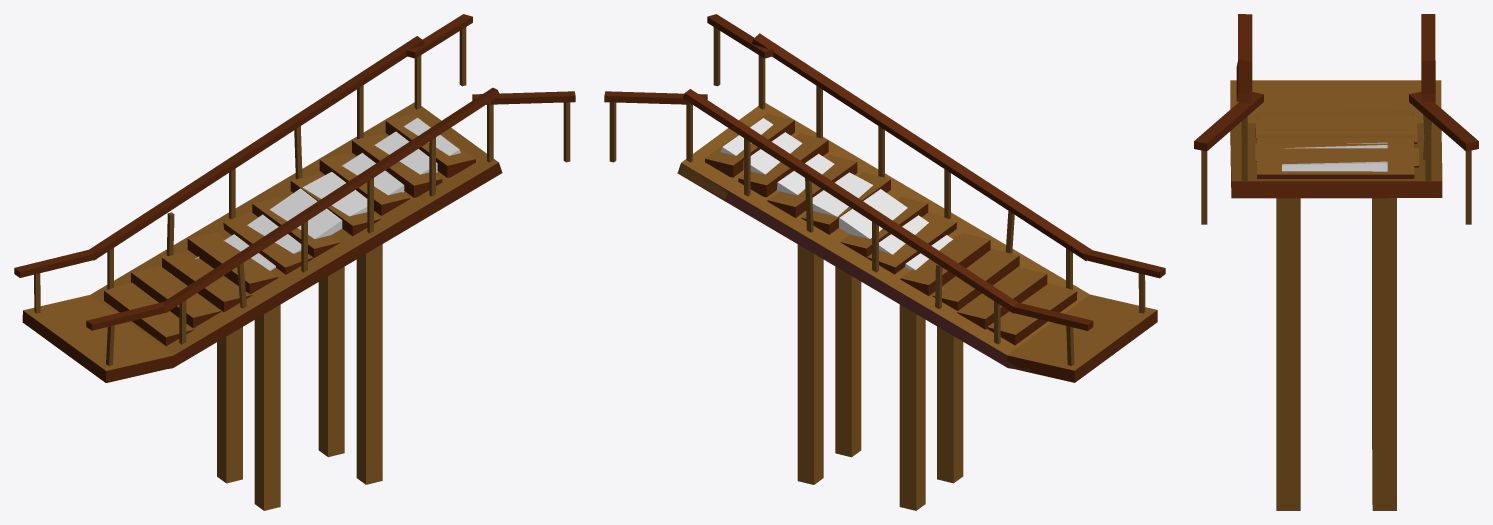
The model's file is StairsDown.fbx.
The picture shows the model from 3 angles, left to right: view 1: azimuth 30°, elevation 25°; view 2: azimuth 150°, elevation 25°; view 3: azimuth 270°, elevation 25°; orthographic projection. The views are drawn at different scales.
Visible parts, largest first — view 1: Cube.008, Cube.016, Cube.023, Cube, Cube.013, Cube.018, Cube.011, Cube.007, Cube.012, Cube.009, Cube.010, Cube.006 (+6 smaller); view 2: Cube.008, Cube.016, Cube.023, Cube, Cube.013, Cube.018, Cube.011, Cube.007, Cube.009, Cube.012, Cube.010, Cube.006 (+6 smaller); view 3: Cube.023, Cube.008, Cube.013, Cube.016, Cube.015, Cube.007, Cube.018, Cube.004, Cube.028, Cube.011, Cube.010, Cube.005 (+9 smaller).
Boxes of the visible parts, x1,y1,x2,y2 form: Cube.008: [90, 102, 502, 368]; Cube.016: [14, 36, 500, 330]; Cube.023: [318, 244, 382, 484]; Cube: [217, 304, 280, 510]; Cube.013: [22, 295, 173, 382]; Cube.018: [171, 117, 460, 274]; Cube.011: [131, 265, 221, 328]; Cube.007: [187, 231, 277, 293]; Cube.012: [104, 282, 194, 345]; Cube.009: [162, 251, 252, 312]; Cube.010: [352, 133, 442, 197]; Cube.006: [223, 212, 313, 274]; Cube.008: [677, 103, 1089, 370]; Cube.016: [683, 33, 1165, 330]; Cube.023: [797, 244, 861, 484]; Cube: [899, 304, 963, 510]; Cube.013: [1007, 294, 1157, 382]; Cube.018: [720, 118, 968, 303]; Cube.011: [957, 267, 1047, 329]; Cube.007: [900, 233, 990, 295]; Cube.009: [931, 248, 1019, 310]; Cube.012: [987, 283, 1077, 345]; Cube.010: [738, 133, 828, 197]; Cube.006: [867, 212, 957, 274]; Cube.023: [1276, 198, 1396, 510]; Cube.008: [1230, 123, 1442, 198]; Cube.013: [1230, 80, 1441, 136]; Cube.016: [1236, 14, 1435, 104]; Cube.015: [1257, 157, 1414, 178]; Cube.007: [1260, 125, 1417, 143]; Cube.018: [1282, 142, 1387, 171]; Cube.004: [1409, 91, 1478, 151]; Cube.028: [1194, 91, 1263, 151]; Cube.011: [1260, 115, 1417, 124]; Cube.010: [1257, 151, 1414, 156]; Cube.005: [1257, 138, 1414, 148].
Size of the model in its own units: 3164 by 2434 by 1305.
